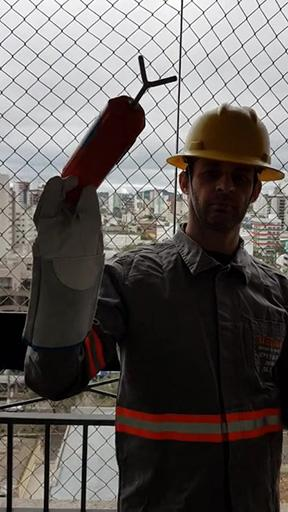Detector_Tensao_Contato: (61, 54, 177, 199)
